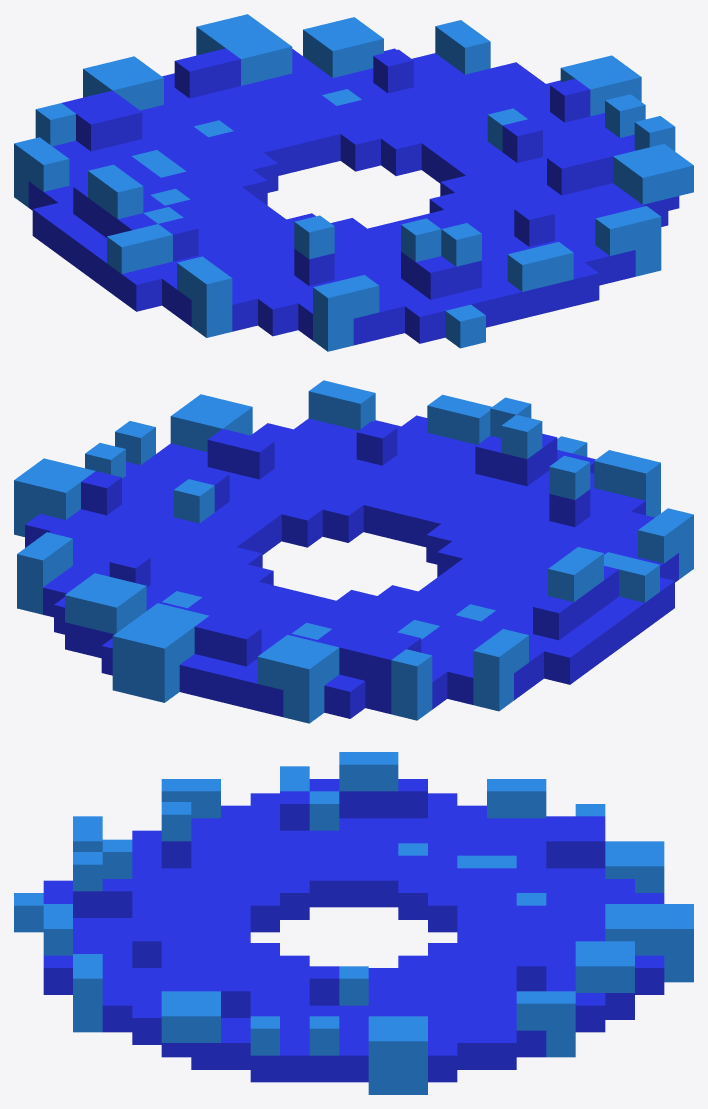
File: Ice Blast.obj
The picture shows the model from 3 angles, top to bottom: view 1: azimuth 30°, elevation 25°; view 2: azimuth 150°, elevation 25°; view 3: azimuth 270°, elevation 25°; orthographic projection.
Bounding box in the file's own units: 2.2 × 0.3 × 2.3.
1 material, 1 textured.
